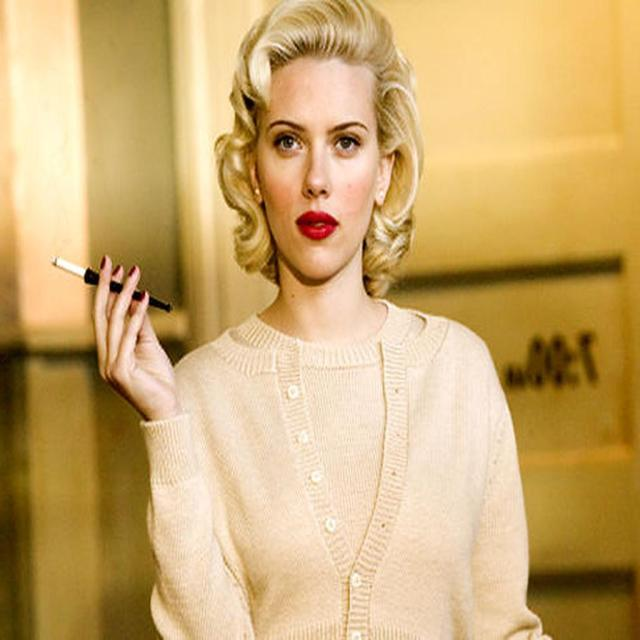smoking: (37, 43, 420, 375)
